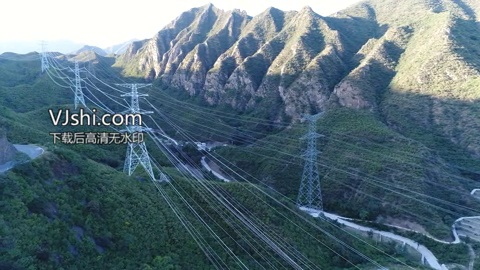tower_body: (114, 79, 159, 181), (294, 107, 332, 216)
tower_foot: (124, 150, 154, 179), (297, 185, 322, 213)
tower_head: (116, 81, 157, 98), (299, 110, 330, 122)
